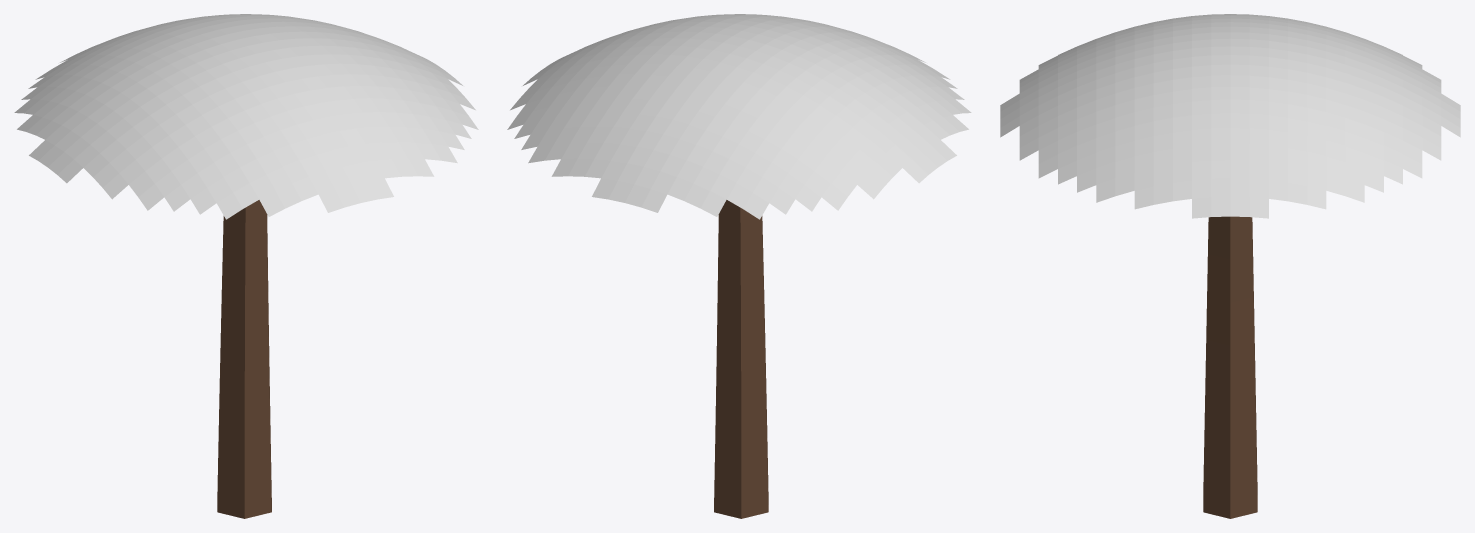
The model's file is VerTree09.glb.
The picture shows the model from 3 angles, left to right: view 1: azimuth 30°, elevation 25°; view 2: azimuth 150°, elevation 25°; view 3: azimuth 270°, elevation 25°; orthographic projection.
Parts seen in each view (by area): view 1: VerTree09; view 2: VerTree09; view 3: VerTree09.
Part boxes in pixels (x1,y1,x2,y2): VerTree09: [14, 14, 478, 518]; VerTree09: [507, 14, 971, 518]; VerTree09: [1000, 14, 1460, 518].
Size of the model in its own units: 6.56 by 7.24 by 6.56.
